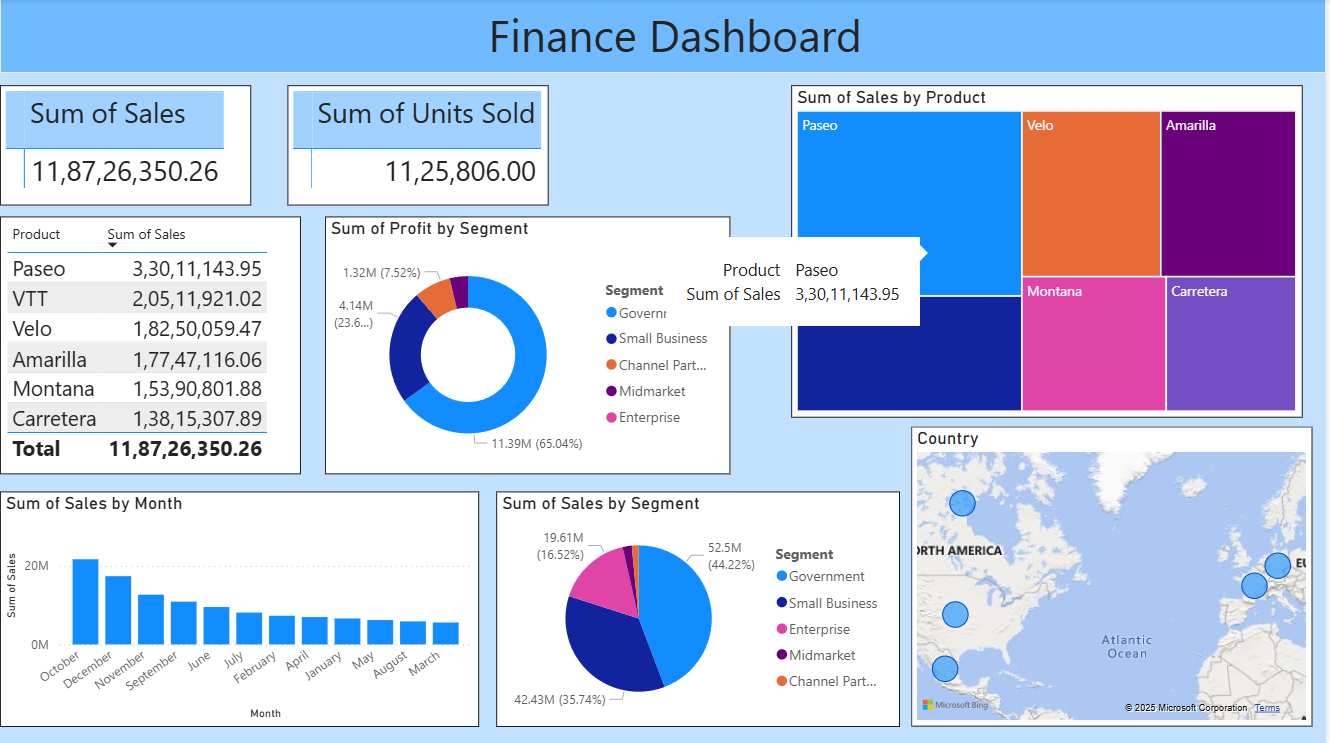

The page's visual inventory and layout, read from the dashboard file:
{"tool":"powerbi","page":{"name":"Page 1","canvas":[1280,720],"ordinal":0},"visuals":[{"type":"textbox","box":[0,0,1280.3,70.9],"z":0},{"type":"pivotTable","fields":{"Values":["Sum(Sheet1. Sales)"]},"box":[0,83.2,242.5,115.8],"z":1000},{"type":"pivotTable","fields":{"Values":["Sum(Sheet1.Units Sold)"]},"box":[277.5,83.2,252.1,115.8],"z":2000},{"type":"clusteredColumnChart","fields":{"Category":["Sheet1.Date.Variation.Date Hierarchy.Year","Sheet1.Date.Variation.Date Hierarchy.Quarter","Sheet1.Date.Variation.Date Hierarchy.Month","Sheet1.Date.Variation.Date Hierarchy.Day"],"Y":["Sum(Sheet1. Sales)"]},"box":[0,475.3,462.1,226.8],"z":3000},{"type":"pieChart","fields":{"Category":["Sheet1.Segment"],"Y":["Sum(Sheet1. Sales)"]},"box":[479,475.3,389.7,226.8],"z":4000},{"type":"tableEx","fields":{"Values":["Sheet1.Product","Sum(Sheet1. Sales)"]},"box":[0,209.9,290.8,248.5],"z":5000},{"type":"map","fields":{"Category":["Sheet1.Country"]},"box":[879.5,412.6,387.3,289.5],"z":6000},{"type":"donutChart","fields":{"Category":["Sheet1.Segment"],"Y":["Sum(Sheet1.Profit)"]},"box":[313.7,209.9,390.9,248.5],"z":7000},{"type":"treemap","fields":{"Group":["Sheet1.Product"],"Values":["Sum(Sheet1. Sales)"]},"box":[763.7,83.2,493.4,320.9],"z":8000}]}

Visuals, with their boxes in screenshot pixels (x1, y1, x2, y2), scaled from the page's 1280x720 canvas onto the 1330x743 screenshot:
textbox: <bbox>0, 0, 1329, 73</bbox>
pivotTable - Sum(Sheet1. Sales): <bbox>0, 86, 252, 205</bbox>
pivotTable - Sum(Sheet1.Units Sold): <bbox>288, 86, 550, 205</bbox>
clusteredColumnChart - Sheet1.Date.Variation.Date Hierarchy.Year x Sheet1.Date.Variation.Date Hierarchy.Quarter: <bbox>0, 490, 480, 725</bbox>
pieChart - Sheet1.Segment x Sum(Sheet1. Sales): <bbox>498, 490, 903, 725</bbox>
tableEx - Sheet1.Product x Sum(Sheet1. Sales): <bbox>0, 217, 302, 473</bbox>
map - Sheet1.Country: <bbox>914, 426, 1316, 725</bbox>
donutChart - Sheet1.Segment x Sum(Sheet1.Profit): <bbox>326, 217, 732, 473</bbox>
treemap - Sheet1.Product x Sum(Sheet1. Sales): <bbox>794, 86, 1306, 417</bbox>
